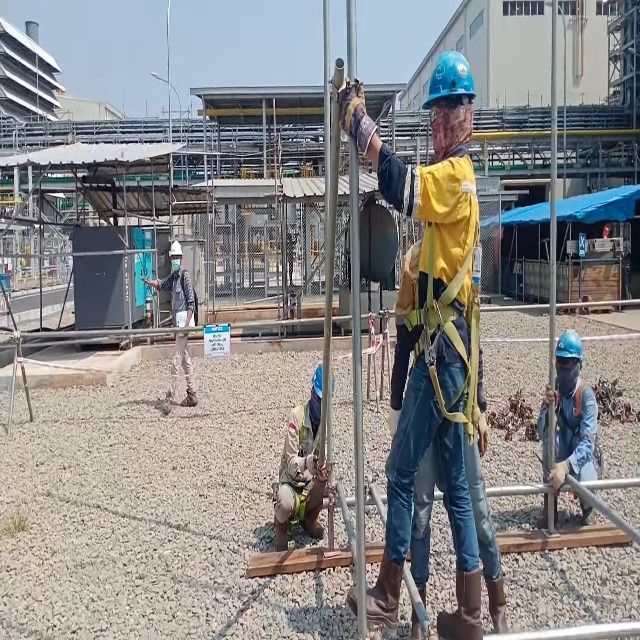Arnes_seguridad: (418, 212, 484, 440), (289, 400, 321, 524), (554, 378, 586, 448)
